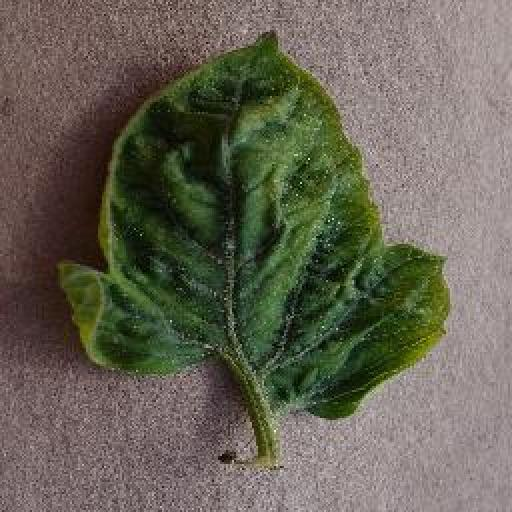Yellow Leaf Curl Virus: (51, 29, 450, 432)
